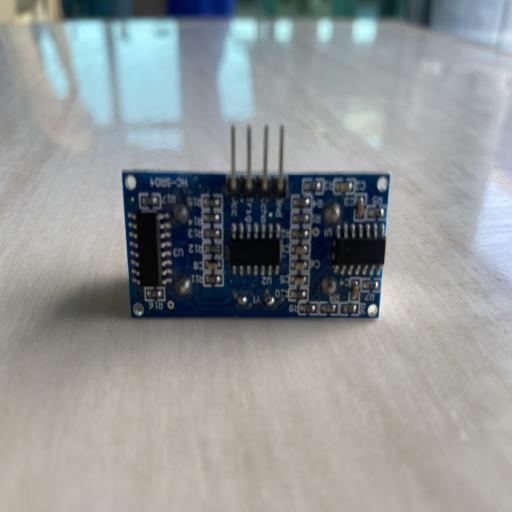Ultrasonic Sensor: (120, 122, 391, 321)
